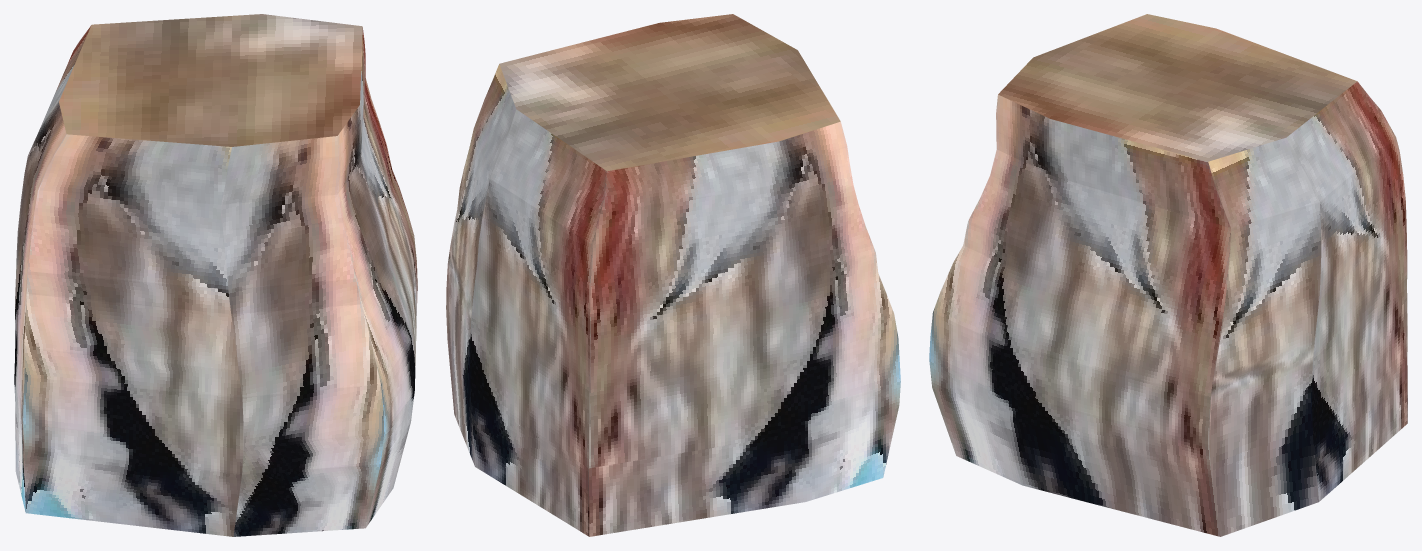
The picture shows the model from 3 angles, left to right: view 1: azimuth 30°, elevation 25°; view 2: azimuth 150°, elevation 25°; view 3: azimuth 270°, elevation 25°; orthographic projection. The views are drawn at different scales.
Parts seen in each view (by area): view 1: SPLICE_2.004; view 2: SPLICE_2.004; view 3: SPLICE_2.004.
Boxes of the visible parts, bbox=[...] form: SPLICE_2.004: bbox=[14, 14, 417, 536]; SPLICE_2.004: bbox=[446, 14, 900, 536]; SPLICE_2.004: bbox=[929, 14, 1407, 536].
Bounding box in the file's own units: 1.96 × 1.63 × 1.96.
Materials: 1 (1 with a texture image).
